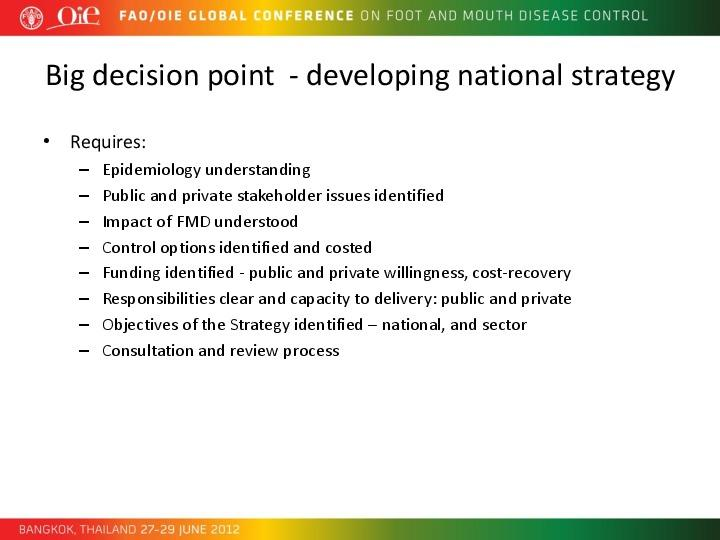title: (28, 116, 639, 366), (31, 54, 678, 101), (114, 2, 655, 31)
